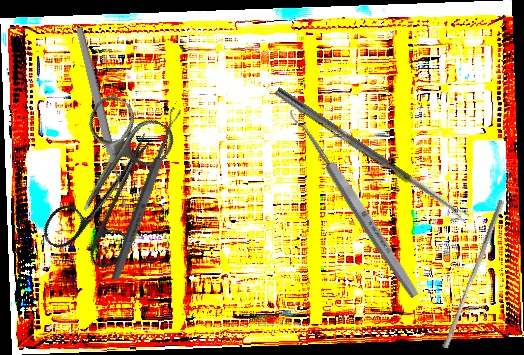Iris Scissors: (37, 113, 183, 279), (45, 89, 181, 233)
Pusher: (441, 197, 505, 351)
Surgical Spoon: (273, 86, 470, 224), (287, 104, 422, 301), (109, 106, 183, 282), (73, 26, 130, 209)
